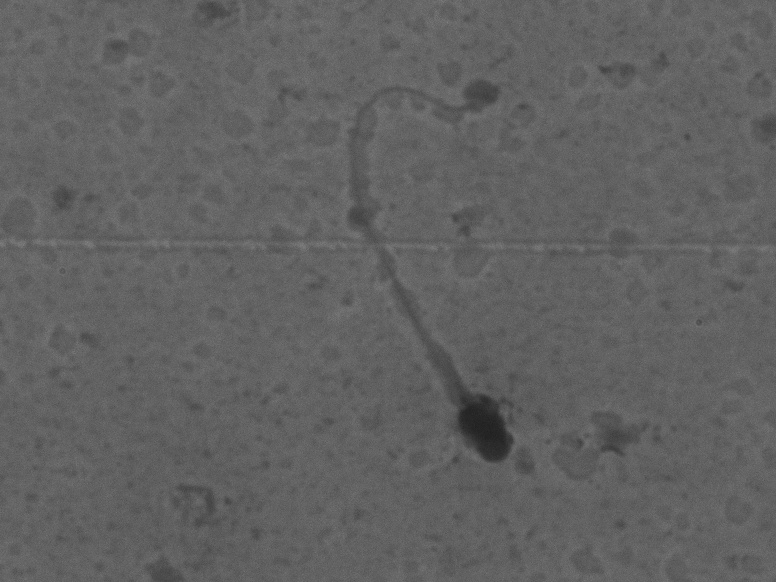Abnormal: (313, 62, 604, 488)
